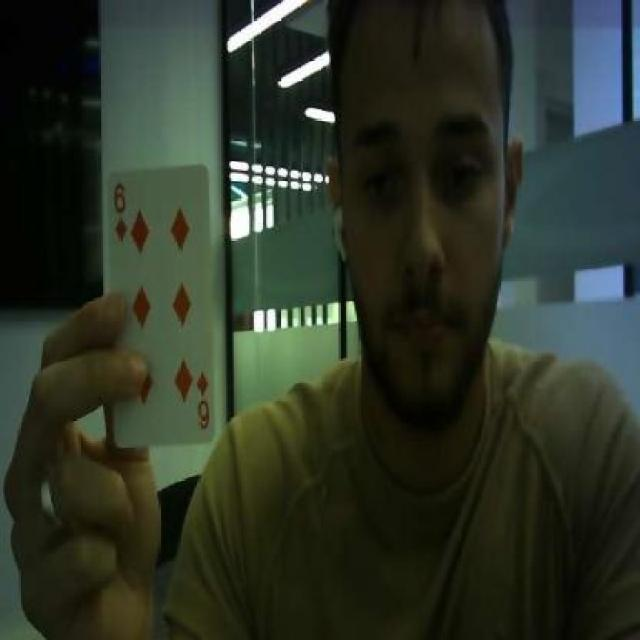6D: (110, 180, 128, 243), (194, 370, 211, 432)
